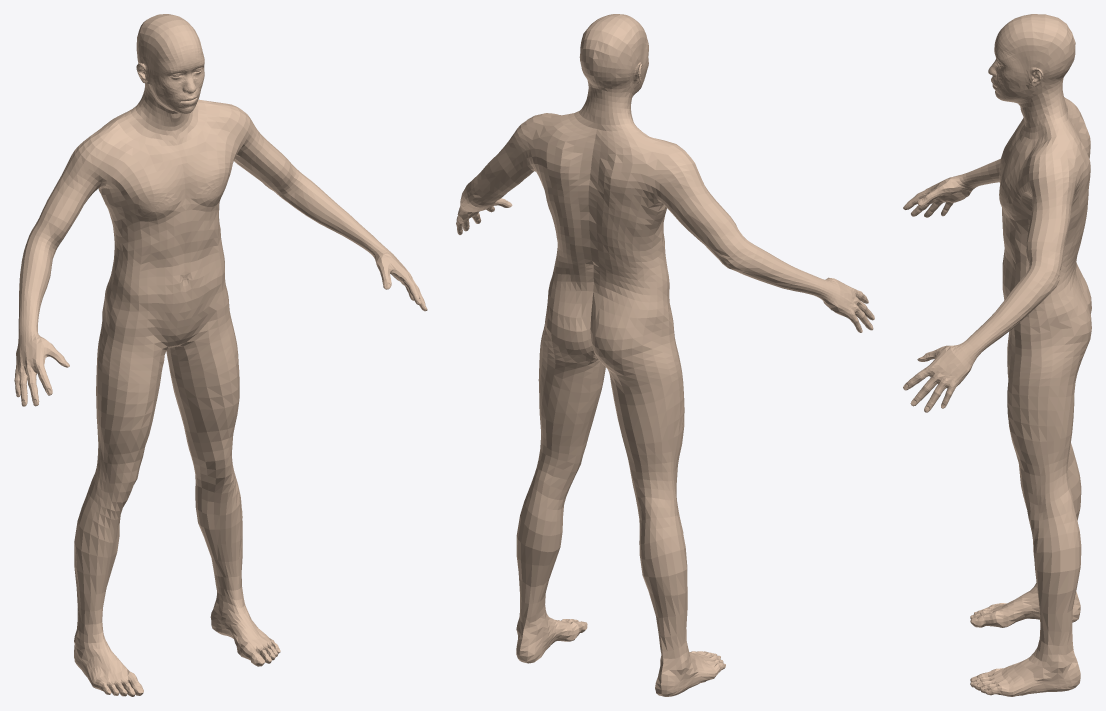
File: male-young-average-high.glb
3 renders of one model, left to right at view 1: azimuth 30°, elevation 25°; view 2: azimuth 150°, elevation 25°; view 3: azimuth 270°, elevation 25°, orthographic.
Parts seen in each view (by area): view 1: world; view 2: world; view 3: world.
Boxes of the visible parts, bbox=[...] form: world: bbox=[14, 14, 427, 696]; world: bbox=[456, 14, 874, 696]; world: bbox=[903, 14, 1091, 696].
Size of the model in its own units: 1.26 by 1.92 by 0.5135.
